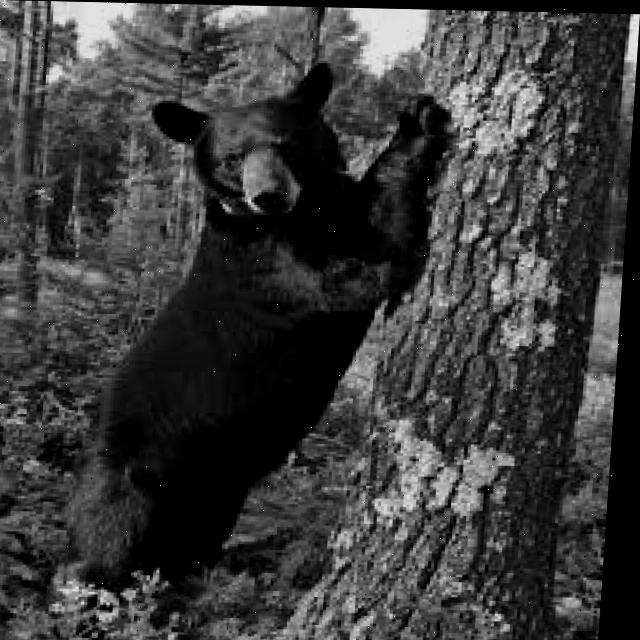Bear: (115, 88, 454, 612)
